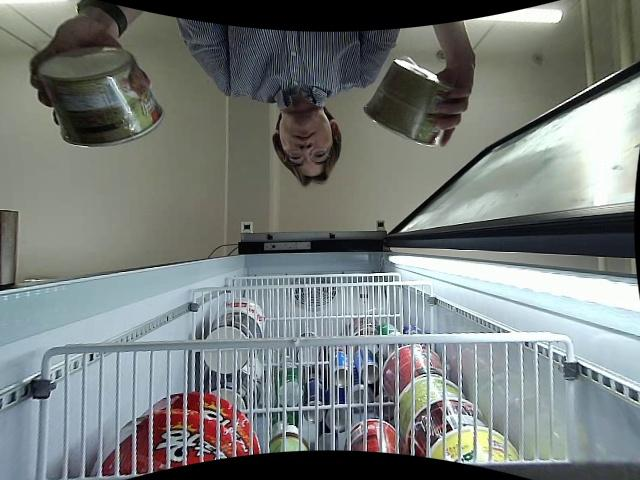00_hand: (29, 20, 151, 127), (437, 68, 473, 148)
03_chapagetti_L: (33, 49, 167, 151), (363, 56, 450, 150)
